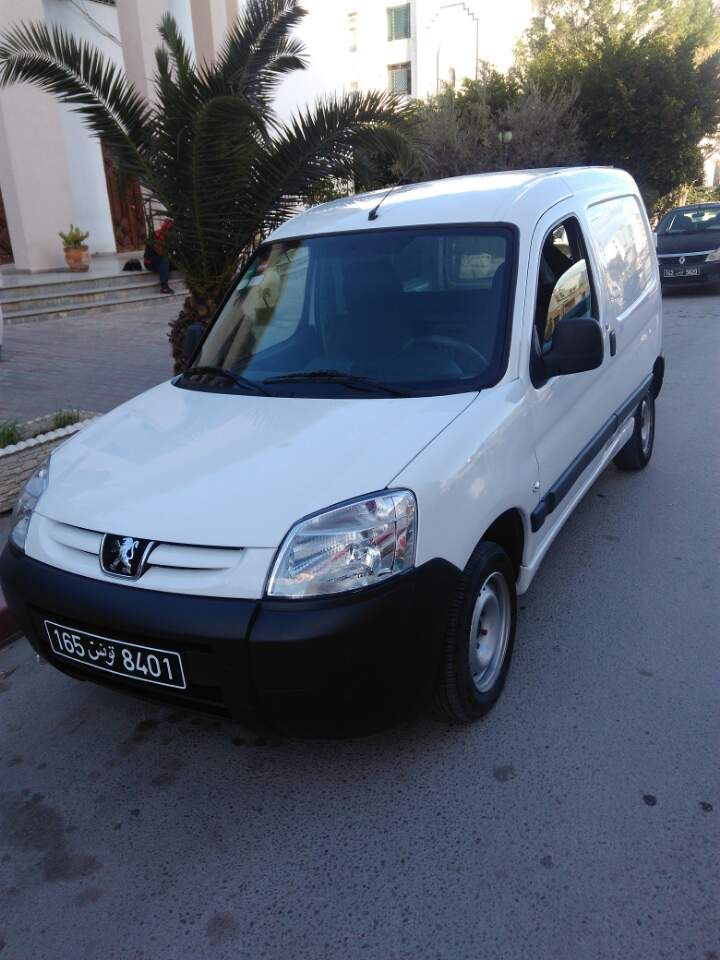LP: (42, 618, 188, 692)
